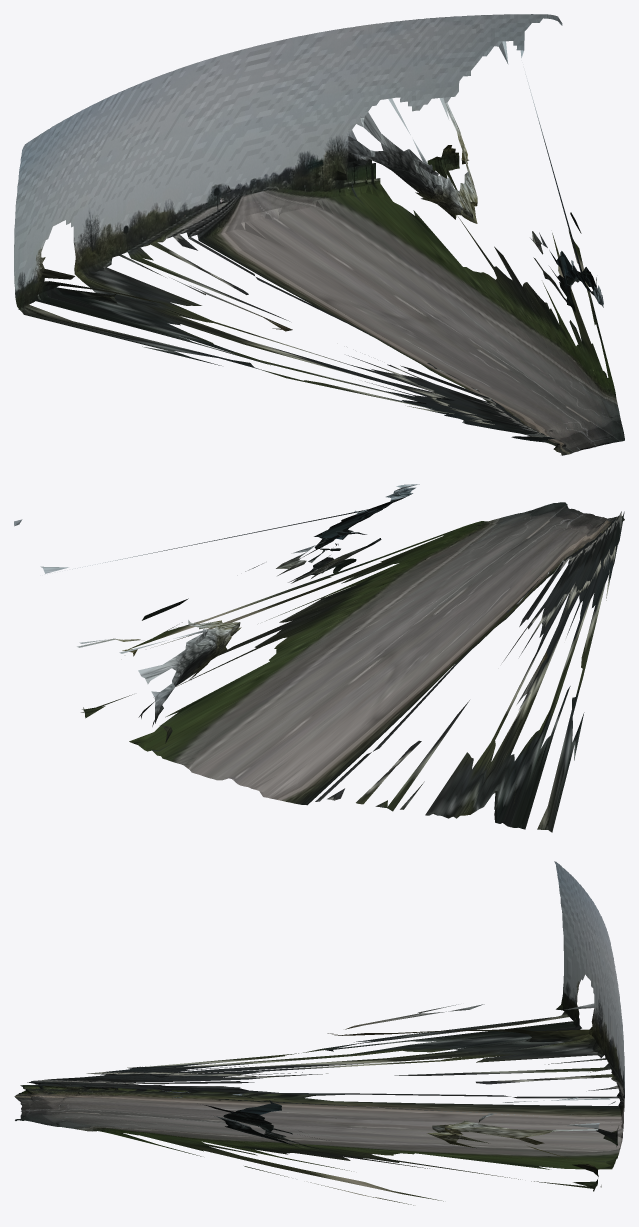
3 views of the same model, one above another, from view 1: azimuth 30°, elevation 25°; view 2: azimuth 150°, elevation 25°; view 3: azimuth 270°, elevation 25° (orthographic). The views are drawn at different scales.
Visible parts, largest first — view 1: defaultobject; view 2: defaultobject; view 3: defaultobject.
Part boxes in pixels (x1,y1,x2,y2): defaultobject: (14, 14, 624, 455); defaultobject: (14, 484, 624, 832); defaultobject: (14, 861, 624, 1205).
Bounding box in the file's own units: 40.56 × 13.37 × 44.76.
1 material, 1 textured.
